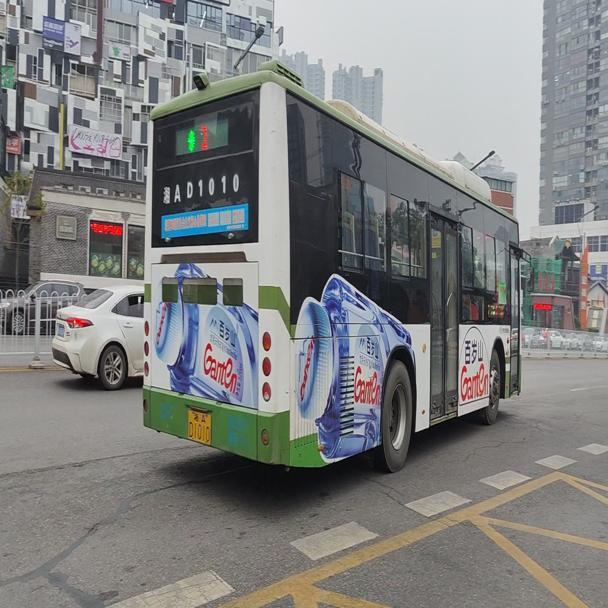bus: (130, 63, 534, 477)
screen: (195, 117, 215, 153)
